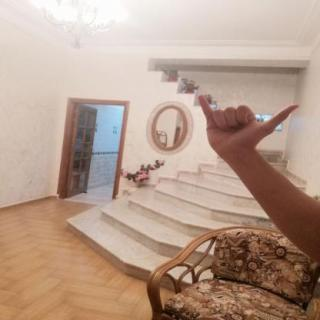YA: (190, 86, 307, 162)
